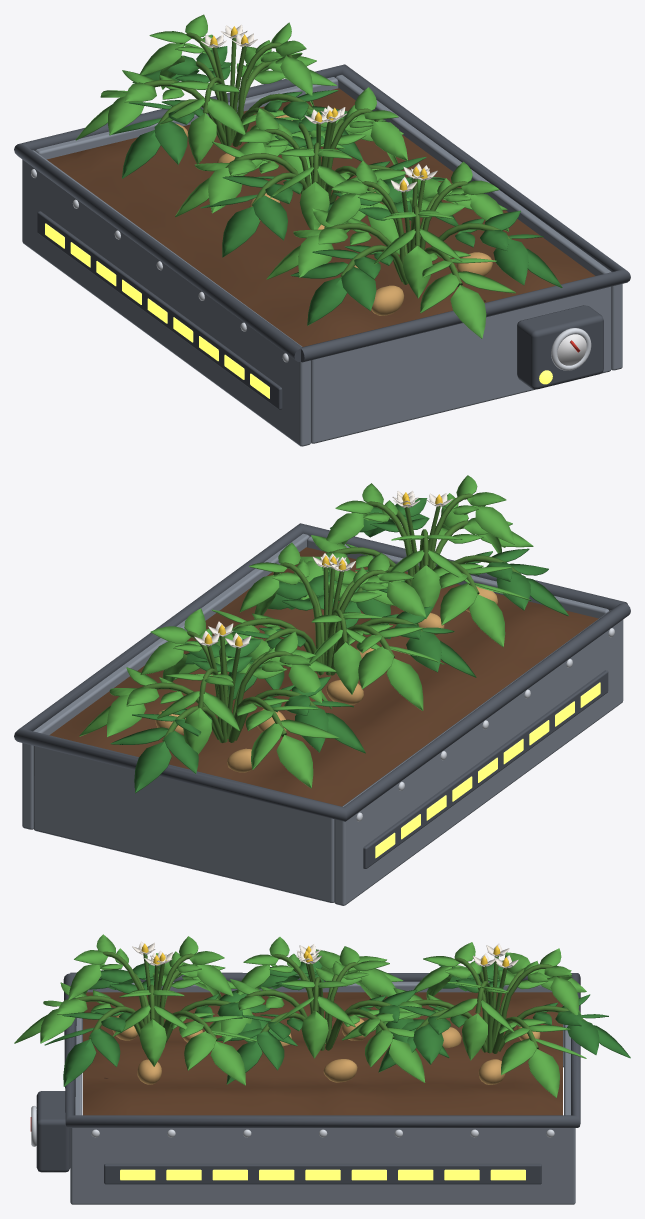
The model's file is BedMetal.fbx.
3 views of the same model, one above another, from view 1: azimuth 30°, elevation 25°; view 2: azimuth 150°, elevation 25°; view 3: azimuth 270°, elevation 25° (orthographic). The views are drawn at different scales.
Visible parts, largest first — view 1: Body__Steel, Body__Soil.002, Body__MetalDark.001, Bush/Plant0__Leaf@sway_x_2.5_3.14_0.15#-0.052,1.13,2, Bush/Plant2__Leaf@sway_x_2.5_3.14_0.75#0.027,1.13,-2, Bush/Plant1__Leaf@sway_x_2.5_3.14_0.45#-0.048,1.13,0, Bush/Plant0__LeafDark@sway_x_2.5_3.14_0.15#-0.052,1.13,2, Bush/Plant2__LeafDark@sway_x_2.5_3.14_0.75#0.027,1.13,-2, Bush/Plant1__LeafDark@sway_x_2.5_3.14_0.45#-0.048,1.13,0, Bush/Plant2__Stem@sway_x_2.5_3.14_0.75#0.027,1.13,-2, Bush/Plant0__Stem@sway_x_2.5_3.14_0.15#-0.052,1.13,2, Bush/Plant1__Stem@sway_x_2.5_3.14_0.45#-0.048,1.13,0 (+4 smaller); view 2: Body__Steel, Body__Soil.002, Body__MetalDark.001, Bush/Plant2__Leaf@sway_x_2.5_3.14_0.75#0.027,1.13,-2, Bush/Plant0__Leaf@sway_x_2.5_3.14_0.15#-0.052,1.13,2, Bush/Plant1__Leaf@sway_x_2.5_3.14_0.45#-0.048,1.13,0, Bush/Plant2__LeafDark@sway_x_2.5_3.14_0.75#0.027,1.13,-2, Bush/Plant1__LeafDark@sway_x_2.5_3.14_0.45#-0.048,1.13,0, Bush/Plant0__LeafDark@sway_x_2.5_3.14_0.15#-0.052,1.13,2, Bush/Plant1__Stem@sway_x_2.5_3.14_0.45#-0.048,1.13,0, Bush/Plant2__Stem@sway_x_2.5_3.14_0.75#0.027,1.13,-2, Bush/Plant0__Stem@sway_x_2.5_3.14_0.15#-0.052,1.13,2 (+2 smaller); view 3: Body__Steel, Body__Soil.002, Body__MetalDark.001, Bush/Plant0__Leaf@sway_x_2.5_3.14_0.15#-0.052,1.13,2, Bush/Plant1__Leaf@sway_x_2.5_3.14_0.45#-0.048,1.13,0, Bush/Plant2__Leaf@sway_x_2.5_3.14_0.75#0.027,1.13,-2, Bush/Plant0__LeafDark@sway_x_2.5_3.14_0.15#-0.052,1.13,2, Bush/Plant2__LeafDark@sway_x_2.5_3.14_0.75#0.027,1.13,-2, Body__NeonOrange, Bush/Plant1__LeafDark@sway_x_2.5_3.14_0.45#-0.048,1.13,0, Bush/Plant2__Stem@sway_x_2.5_3.14_0.75#0.027,1.13,-2, Bush/Plant0__Stem@sway_x_2.5_3.14_0.15#-0.052,1.13,2 (+4 smaller).
Boxes of the visible parts, box(x1,y1,x2,y2) form: Body__Steel: box(22, 75, 622, 446); Body__Soil.002: box(47, 88, 594, 346); Body__MetalDark.001: box(14, 64, 630, 409); Bush/Plant0__Leaf@sway_x_2.5_3.14_0.15#-0.052,1.13,2: box(266, 160, 515, 338); Bush/Plant2__Leaf@sway_x_2.5_3.14_0.75#0.027,1.13,-2: box(75, 14, 344, 184); Bush/Plant1__Leaf@sway_x_2.5_3.14_0.45#-0.048,1.13,0: box(175, 87, 409, 254); Bush/Plant0__LeafDark@sway_x_2.5_3.14_0.15#-0.052,1.13,2: box(290, 178, 562, 325); Bush/Plant2__LeafDark@sway_x_2.5_3.14_0.75#0.027,1.13,-2: box(109, 46, 362, 178); Bush/Plant1__LeafDark@sway_x_2.5_3.14_0.45#-0.048,1.13,0: box(200, 112, 458, 257); Bush/Plant2__Stem@sway_x_2.5_3.14_0.75#0.027,1.13,-2: box(144, 32, 313, 146); Bush/Plant0__Stem@sway_x_2.5_3.14_0.15#-0.052,1.13,2: box(330, 178, 511, 286); Bush/Plant1__Stem@sway_x_2.5_3.14_0.45#-0.048,1.13,0: box(225, 108, 411, 206); Body__Steel: box(22, 533, 623, 905); Body__Soil.002: box(49, 547, 598, 806); Body__MetalDark.001: box(14, 523, 630, 868); Bush/Plant2__Leaf@sway_x_2.5_3.14_0.75#0.027,1.13,-2: box(79, 608, 338, 788); Bush/Plant0__Leaf@sway_x_2.5_3.14_0.15#-0.052,1.13,2: box(294, 475, 533, 647); Bush/Plant1__Leaf@sway_x_2.5_3.14_0.45#-0.048,1.13,0: box(174, 542, 444, 710); Bush/Plant2__LeafDark@sway_x_2.5_3.14_0.75#0.027,1.13,-2: box(110, 638, 365, 793); Bush/Plant1__LeafDark@sway_x_2.5_3.14_0.45#-0.048,1.13,0: box(227, 574, 476, 699); Bush/Plant0__LeafDark@sway_x_2.5_3.14_0.15#-0.052,1.13,2: box(308, 498, 568, 628); Bush/Plant1__Stem@sway_x_2.5_3.14_0.45#-0.048,1.13,0: box(229, 562, 423, 675); Bush/Plant2__Stem@sway_x_2.5_3.14_0.75#0.027,1.13,-2: box(141, 631, 317, 742); Bush/Plant0__Stem@sway_x_2.5_3.14_0.15#-0.052,1.13,2: box(320, 493, 521, 594); Body__Steel: box(70, 981, 575, 1204); Body__Soil.002: box(83, 992, 562, 1115); Body__MetalDark.001: box(36, 972, 580, 1184); Bush/Plant0__Leaf@sway_x_2.5_3.14_0.15#-0.052,1.13,2: box(14, 934, 257, 1085); Bush/Plant1__Leaf@sway_x_2.5_3.14_0.45#-0.048,1.13,0: box(209, 937, 425, 1082); Bush/Plant2__Leaf@sway_x_2.5_3.14_0.75#0.027,1.13,-2: box(342, 942, 586, 1097); Bush/Plant0__LeafDark@sway_x_2.5_3.14_0.15#-0.052,1.13,2: box(44, 963, 297, 1086); Bush/Plant2__LeafDark@sway_x_2.5_3.14_0.75#0.027,1.13,-2: box(378, 960, 630, 1072); Body__NeonOrange: box(120, 1169, 525, 1180); Bush/Plant1__LeafDark@sway_x_2.5_3.14_0.45#-0.048,1.13,0: box(217, 957, 449, 1084); Bush/Plant2__Stem@sway_x_2.5_3.14_0.75#0.027,1.13,-2: box(411, 956, 586, 1053); Bush/Plant0__Stem@sway_x_2.5_3.14_0.15#-0.052,1.13,2: box(75, 951, 231, 1044).
Size of the model in its own units: 414 by 291 by 733.
